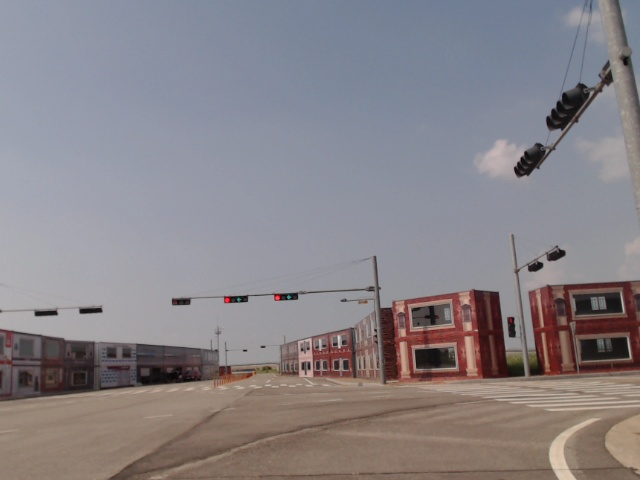left_green_4: (274, 294, 298, 300), (224, 297, 248, 302)
